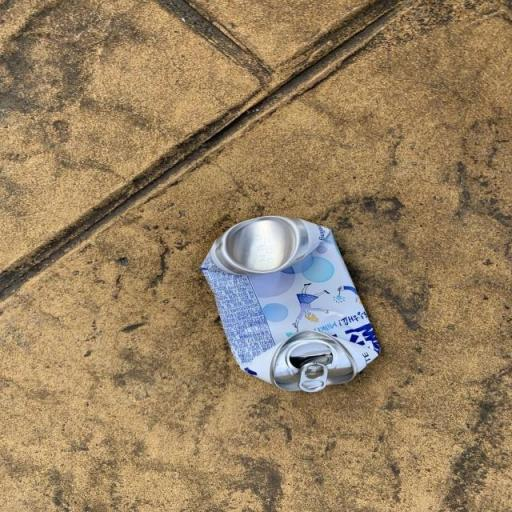metal: (165, 195, 396, 401)
